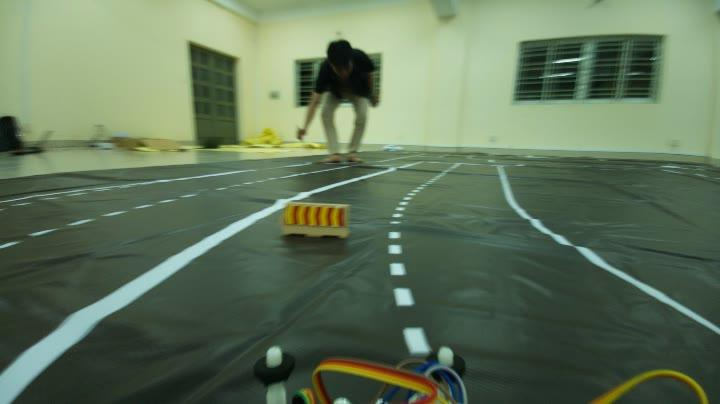roadblock: (273, 193, 357, 239)
